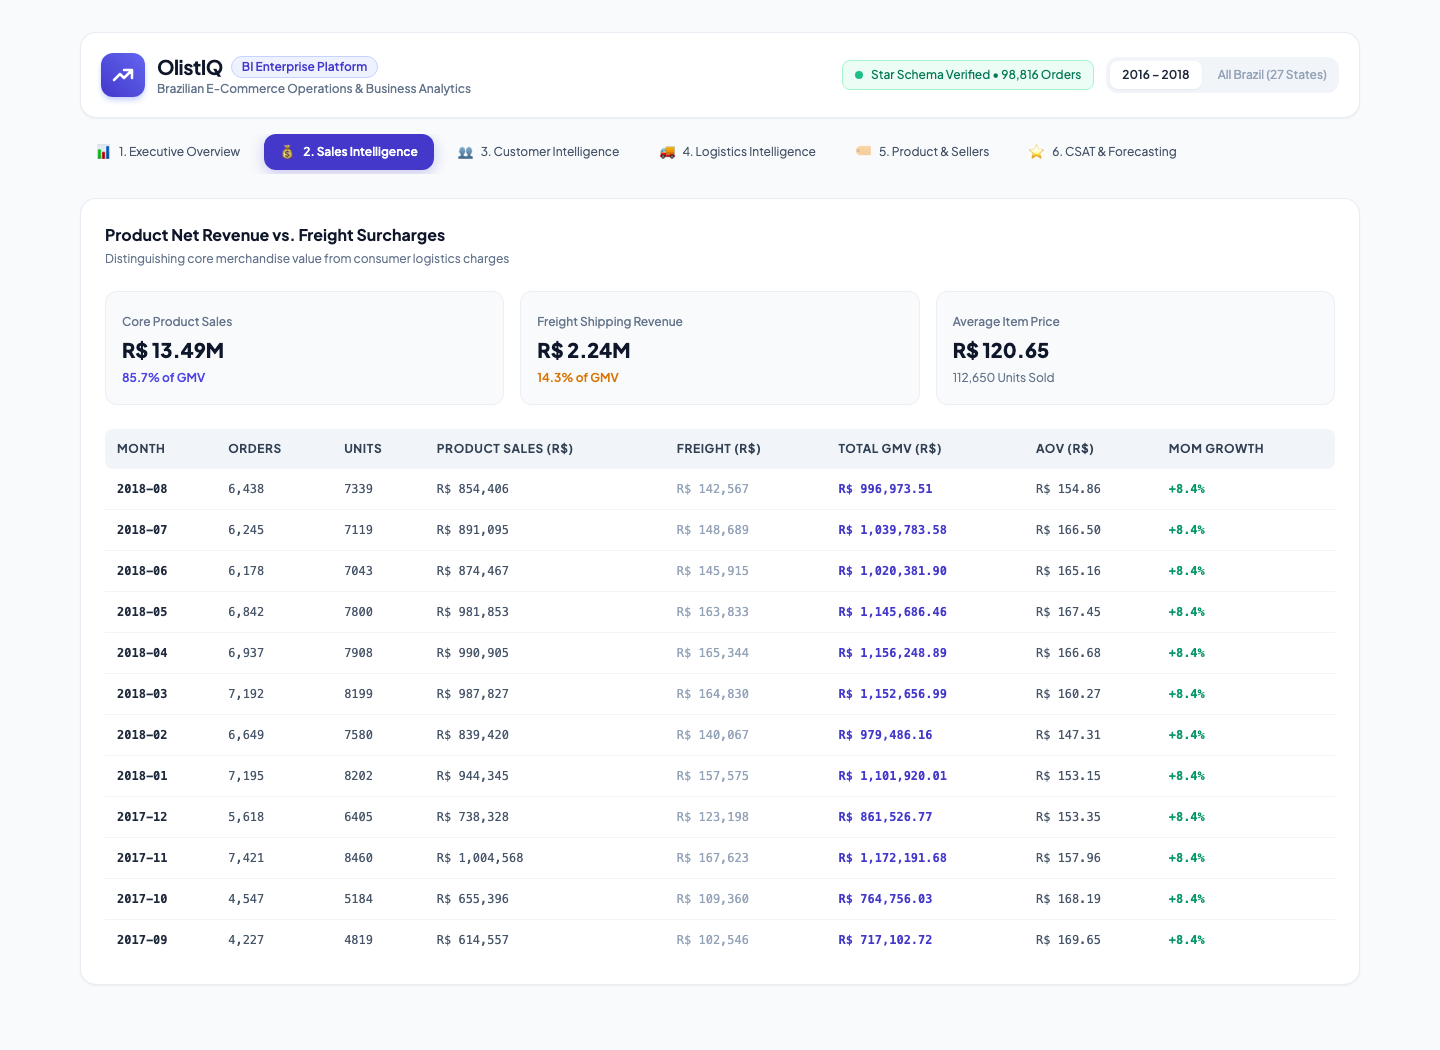

The dashboard page shown, as its layout file describes it:
{"tool":"tableau","page":{"name":"2_Sales_Intelligence","canvas":[1400,900],"ordinal":1},"visuals":[{"type":"title","box":[0,0,1400,72]},{"type":"widget","title":"Executive_GMV_Trend","box":[0,90,1400,792]}]}

Visuals, with their boxes on the page's 1400x900 design canvas (x1, y1, x2, y2). These are canvas units, not pixel positions in the 1440x1050 screenshot, which may show the page scaled, cropped or inside an application window:
title: (0,0,1400,72)
"Executive_GMV_Trend" widget: (0,90,1400,882)
